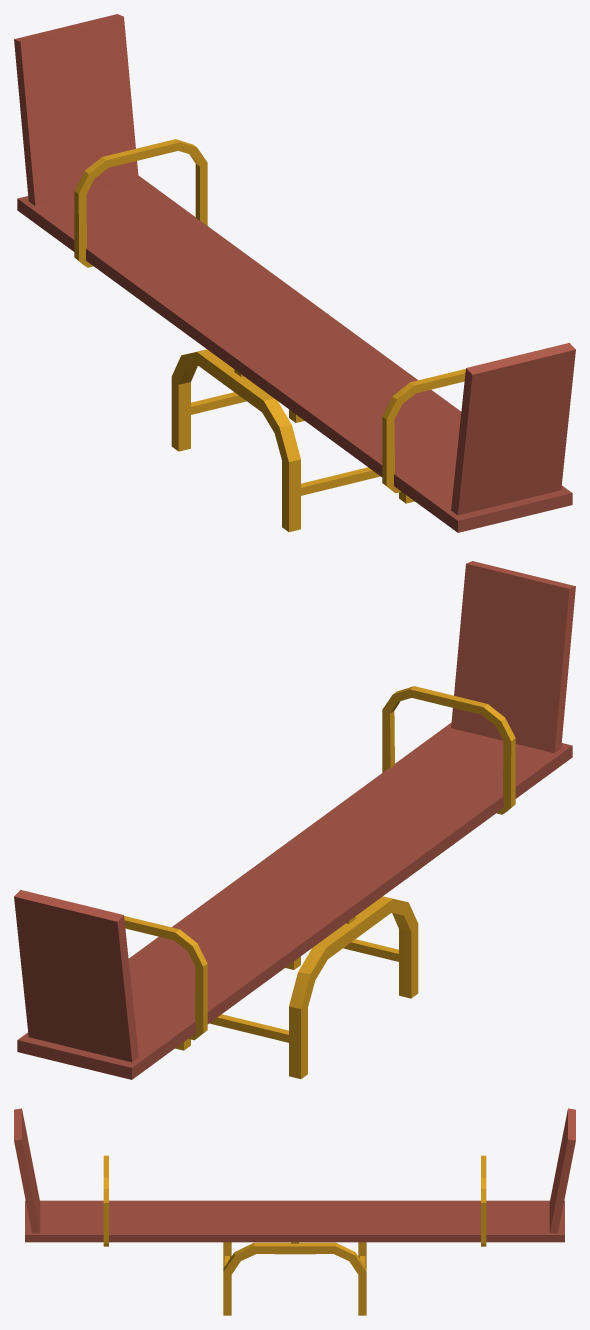
Rendered from Playground_04.fbx.
3 renders of one model, top to bottom at view 1: azimuth 30°, elevation 25°; view 2: azimuth 150°, elevation 25°; view 3: azimuth 270°, elevation 25°, orthographic. The views are drawn at different scales.
Parts seen in each view (by area): view 1: Playground_04; view 2: Playground_04; view 3: Playground_04.
Part boxes in pixels (x1,y1,x2,y2): Playground_04: (14, 14, 575, 532); Playground_04: (14, 561, 575, 1079); Playground_04: (14, 1108, 575, 1315).
Size of the model in its own units: 33.9 by 70.44 by 208.
